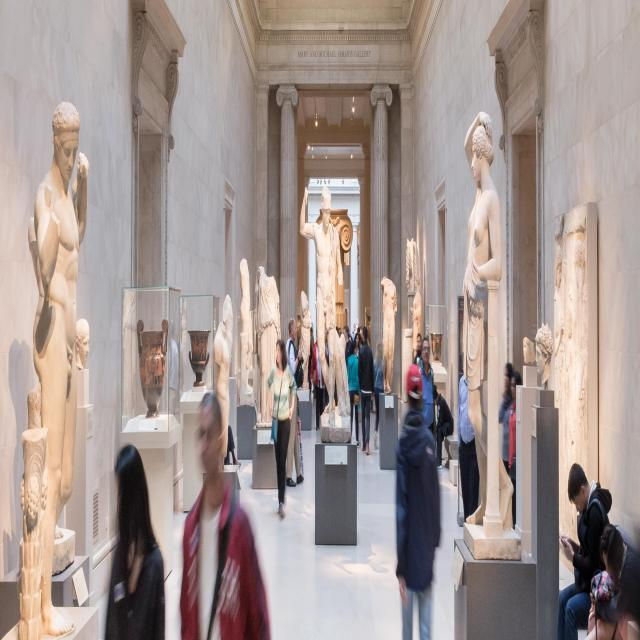body: (8, 100, 90, 638), (180, 386, 272, 640), (461, 110, 514, 538), (394, 361, 442, 639), (299, 183, 353, 429), (104, 443, 166, 640), (556, 223, 590, 561), (556, 462, 612, 640), (584, 521, 640, 639), (266, 338, 297, 519), (254, 264, 282, 428), (457, 374, 484, 530), (212, 294, 233, 464), (285, 316, 305, 489), (508, 370, 522, 531), (357, 325, 374, 456), (381, 273, 398, 394), (417, 337, 437, 438), (240, 256, 253, 404), (432, 384, 454, 470), (498, 361, 514, 476), (310, 327, 327, 431), (347, 340, 361, 446), (168, 317, 182, 422), (534, 322, 555, 387), (372, 340, 384, 450), (411, 268, 423, 364), (224, 423, 242, 471), (343, 324, 353, 371), (414, 332, 422, 365), (356, 326, 364, 349), (333, 375, 338, 410), (354, 332, 360, 360)
